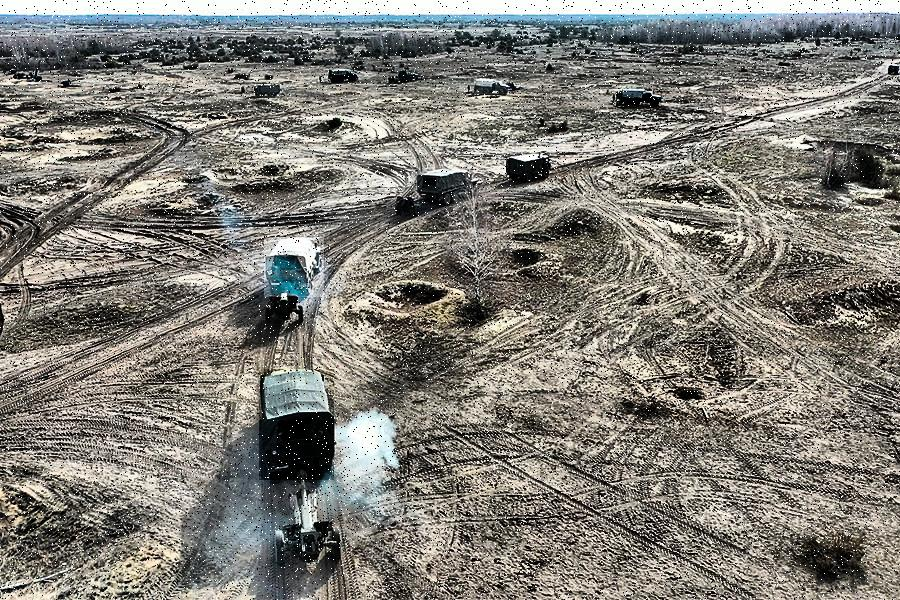military-vehicle: (259, 370, 334, 481), (265, 237, 325, 297), (418, 169, 477, 204), (507, 152, 554, 181), (623, 89, 663, 105), (475, 78, 510, 94), (329, 70, 357, 83), (255, 84, 282, 97)
